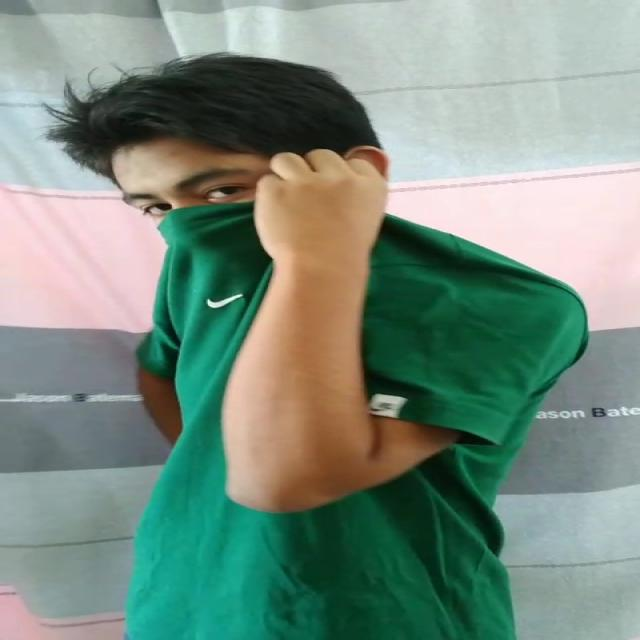8_ropa_rostro: (152, 184, 404, 317)
